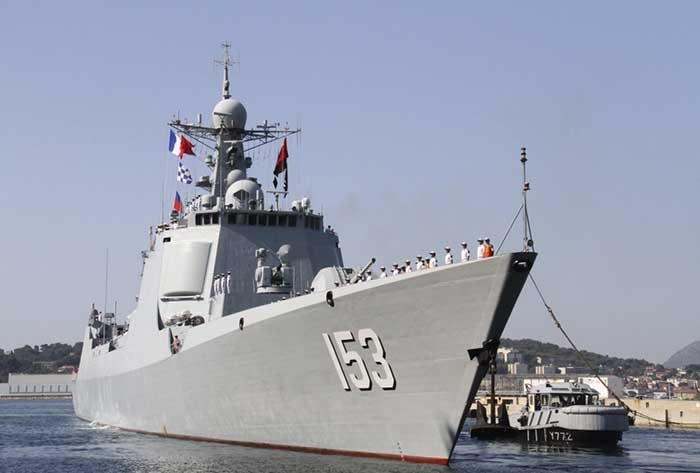otherboat: (479, 363, 637, 457)
warship: (68, 52, 547, 466)
